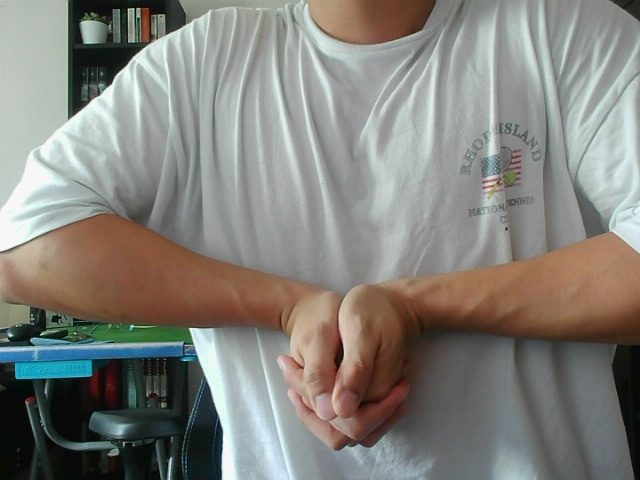Boar: (254, 254, 453, 469)
